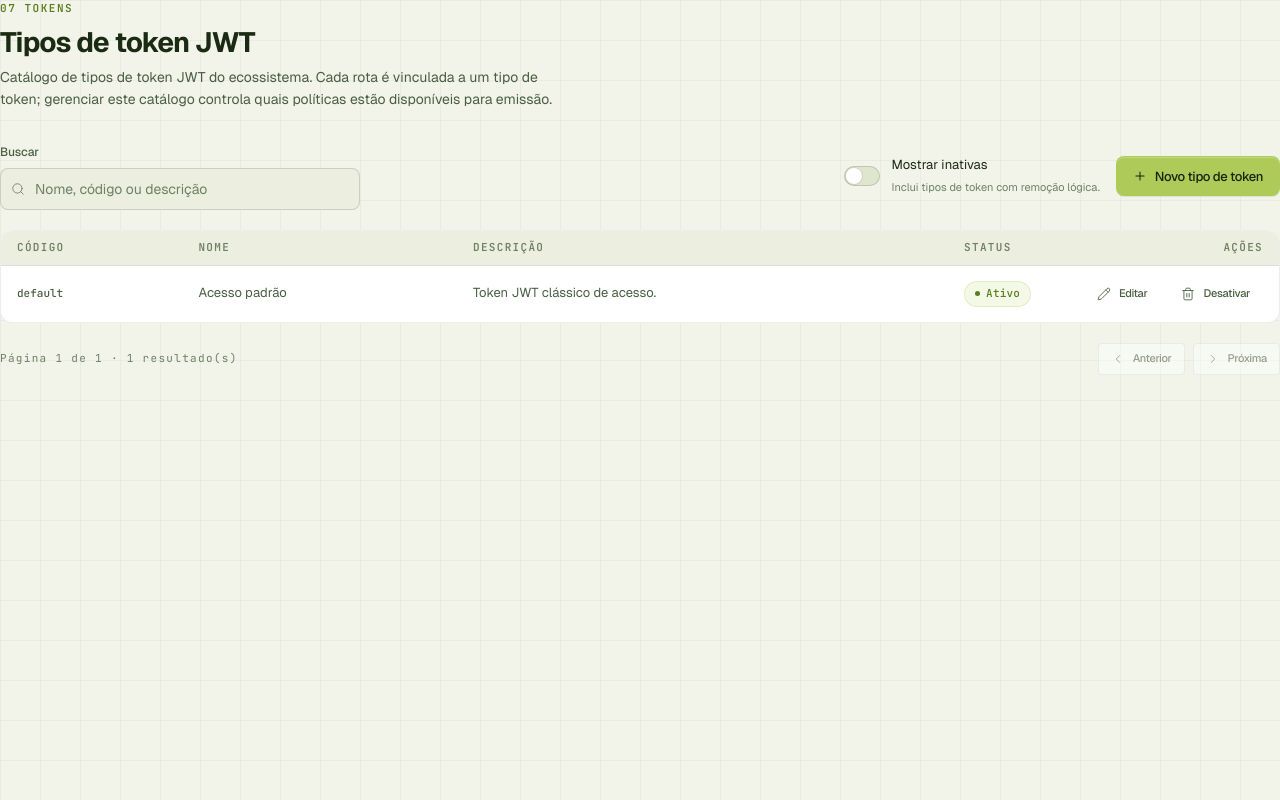
TokensListShellPage — fluxo "Novo tipo de token" › 409 mapeia para mensagem inline custom no campo code
The width and height of the screenshot is (1280, 800).
Click the button with test id "token-types-create-open". click: (1198, 176)
box: x1=1116 y1=156 x2=1279 y2=196
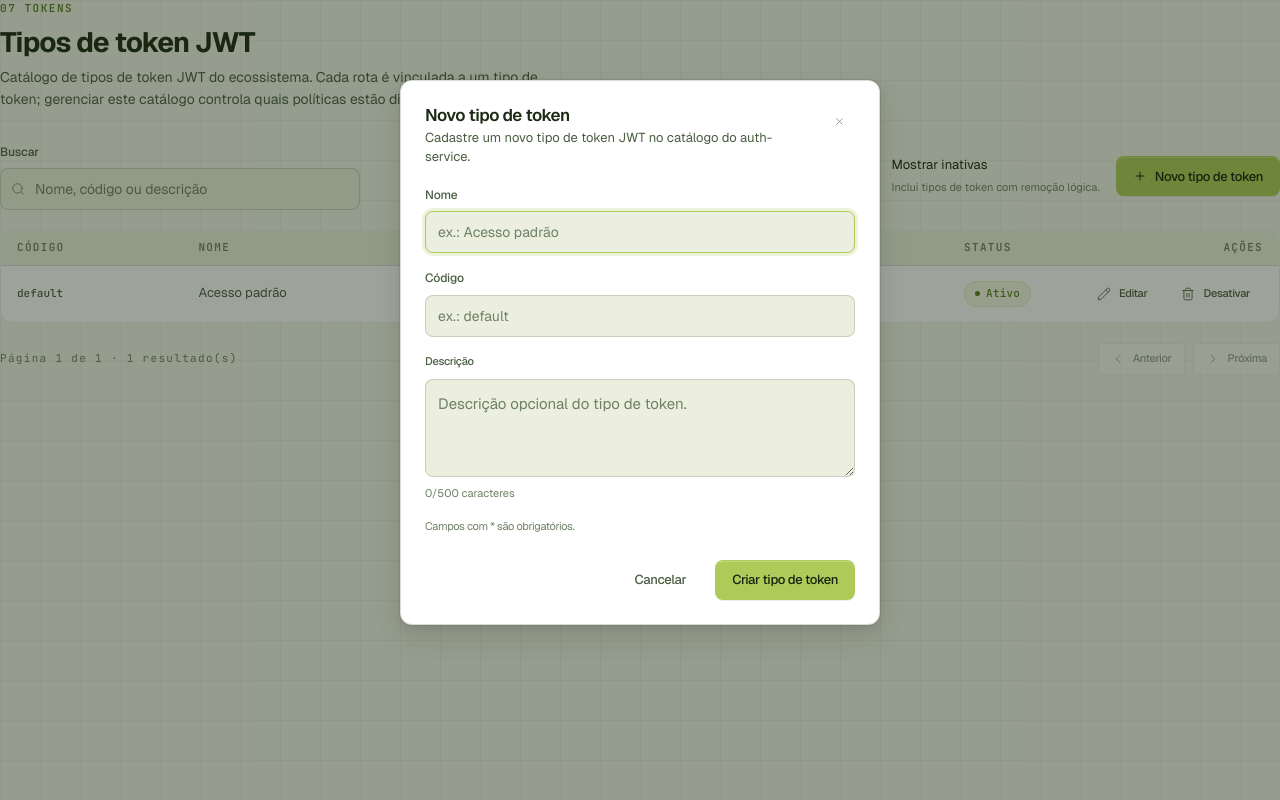
Type "Padrão" into the field with test id "new-token-type-name". click: (640, 232)
box: x1=425 y1=211 x2=855 y2=253
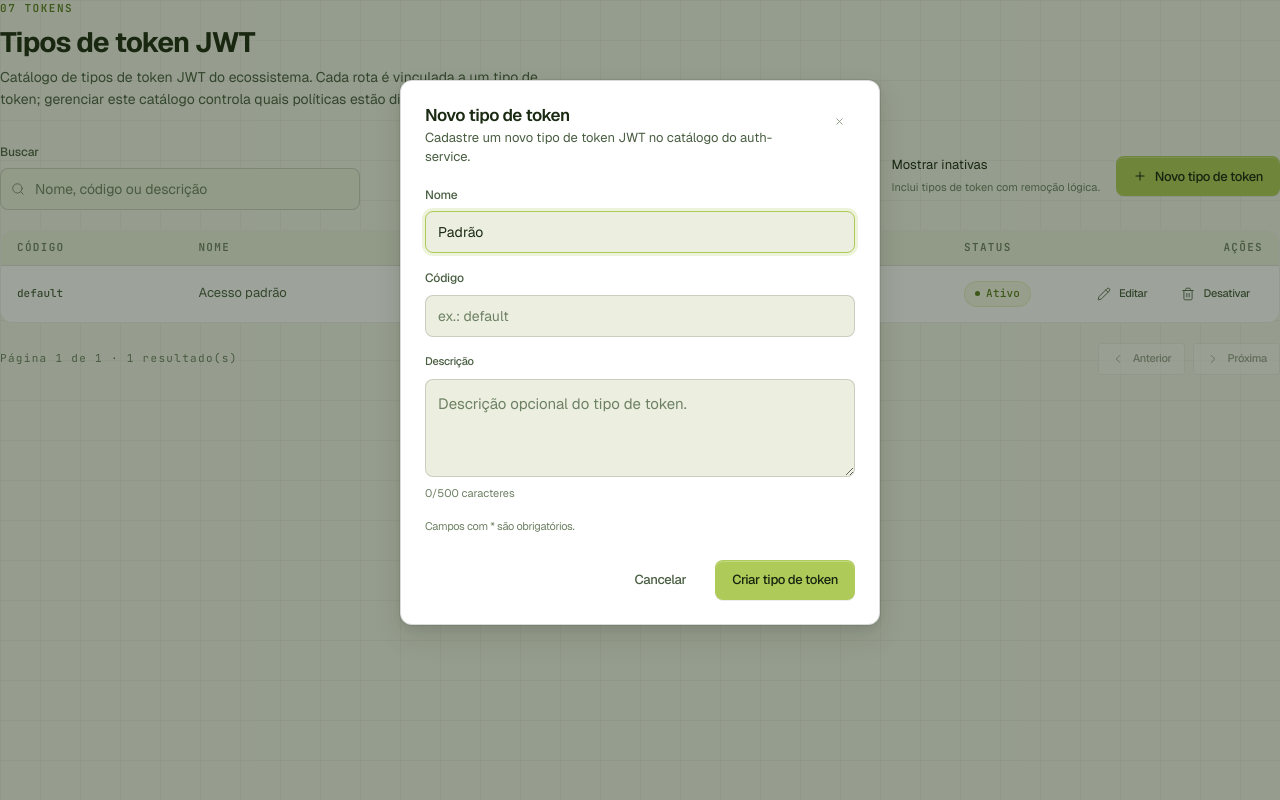
Type "default" into the field with test id "new-token-type-code". click: (640, 316)
box: x1=425 y1=294 x2=855 y2=337
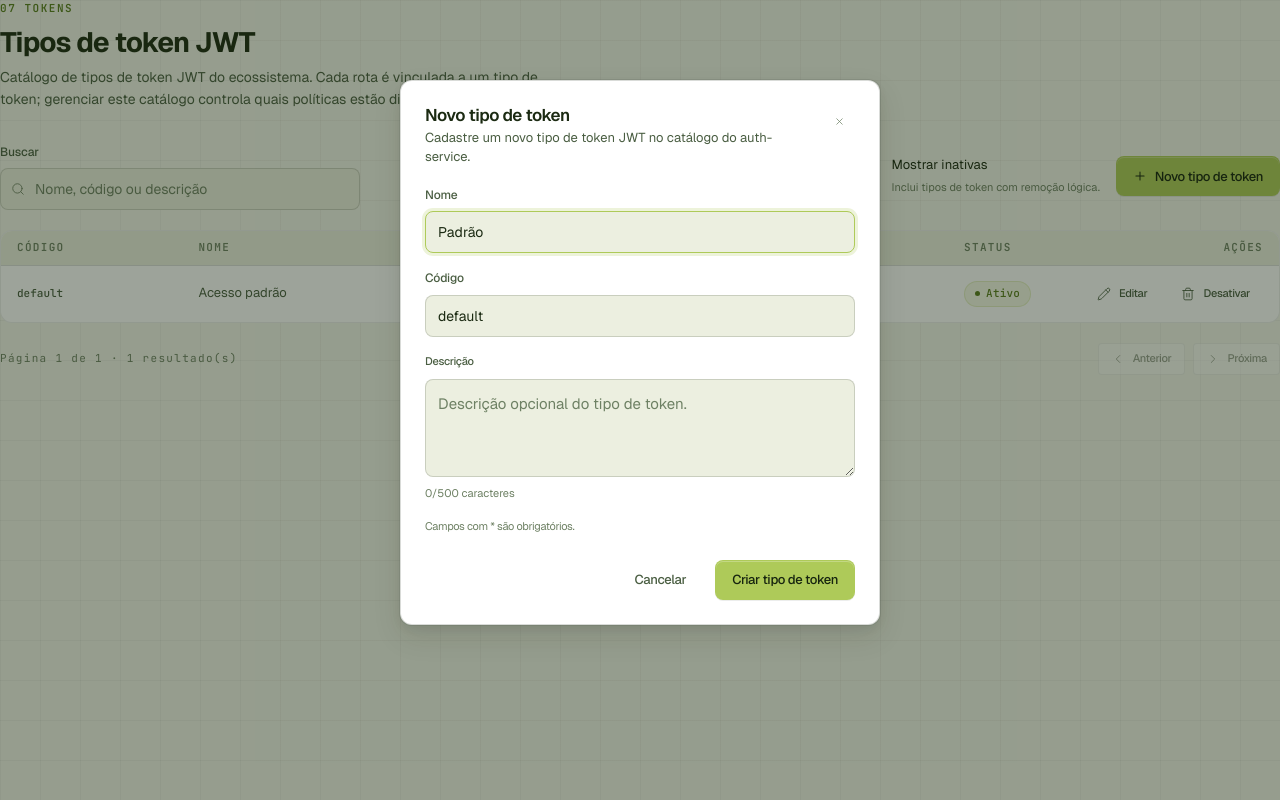
Submit the form with test id "new-token-type-form", box x1=425 y1=186 x2=855 y2=600
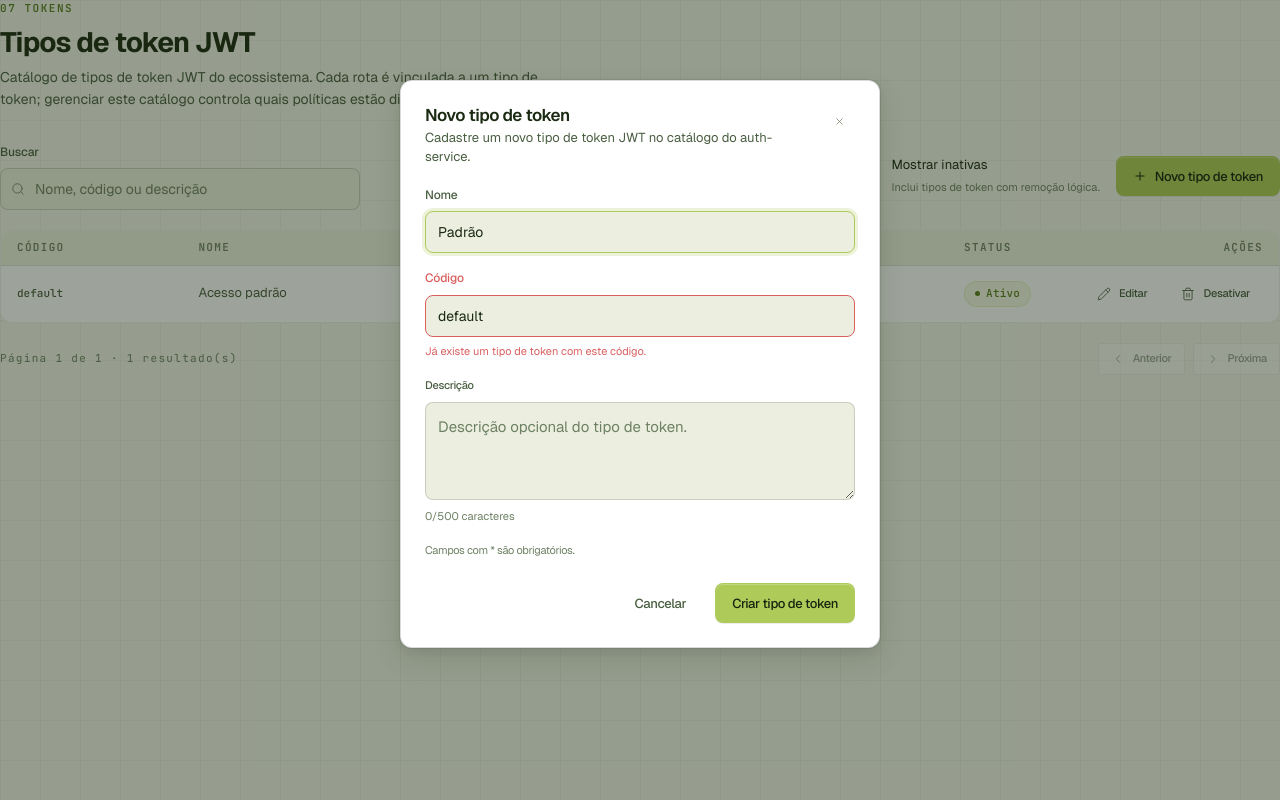
Expected: the form with test id "new-token-type-form" is shown, x1=425 y1=186 x2=855 y2=623
Expected: the text "Já existe um tipo de token com este código." is shown, x1=425 y1=344 x2=646 y2=358
